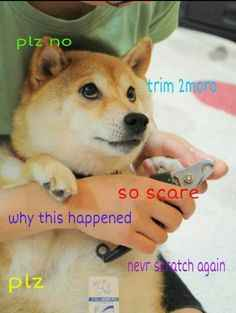doge: (10, 28, 157, 180)
